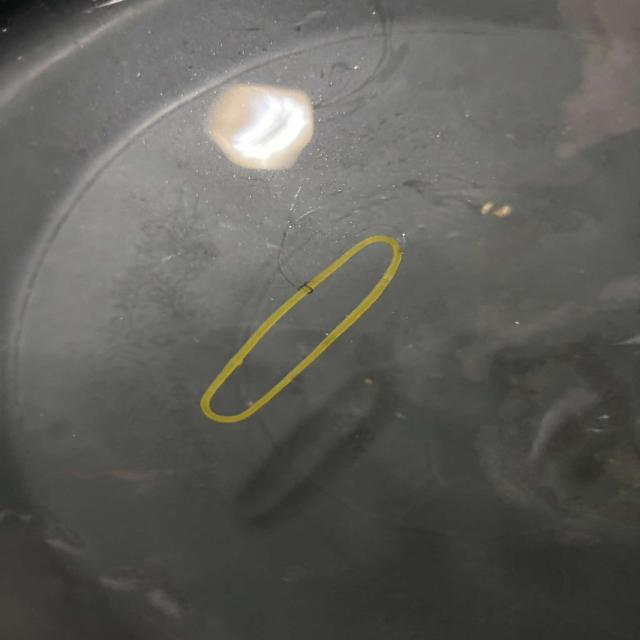Rubberband: (117, 228, 454, 480)
